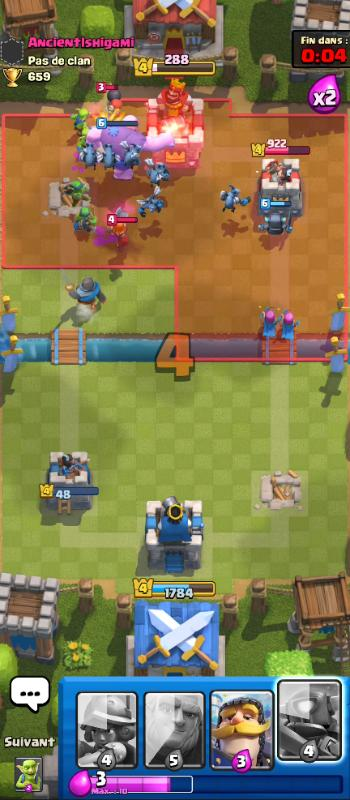chevalier: (55, 267, 109, 314)
gargouille: (220, 182, 252, 216), (134, 196, 169, 222), (100, 142, 122, 177), (121, 141, 144, 174), (145, 163, 173, 190), (82, 147, 104, 172)
gobelin: (72, 108, 95, 134), (72, 137, 91, 159)
gobelin_lances: (69, 203, 99, 241), (64, 180, 93, 203)
mini_PEKKA: (257, 209, 299, 241)
